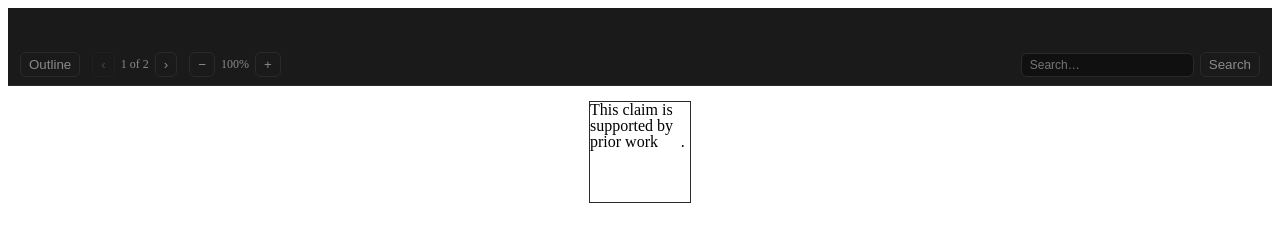
Test: Reader inline citation click-through [P2-03] › shows the reference text in a tooltip on hover
Expected: the text named "Page" reads "1 of 2", [121, 57, 149, 72]
Hover over the button "[1]": (671, 142) [662, 134, 681, 150]
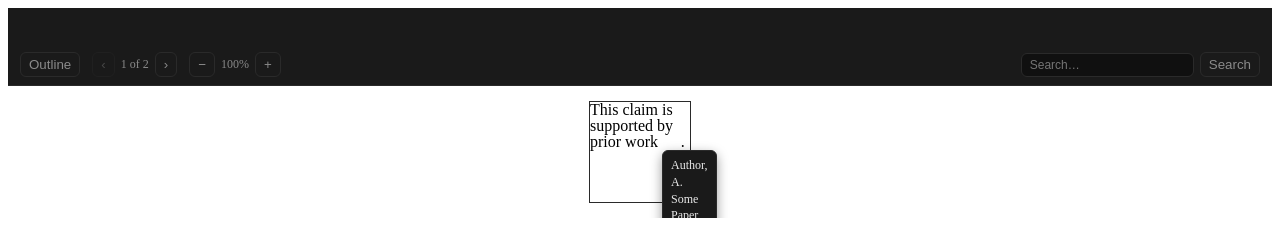
Result: the tooltip reads "Author, A. Some Paper Title." at [671, 158, 708, 218]
